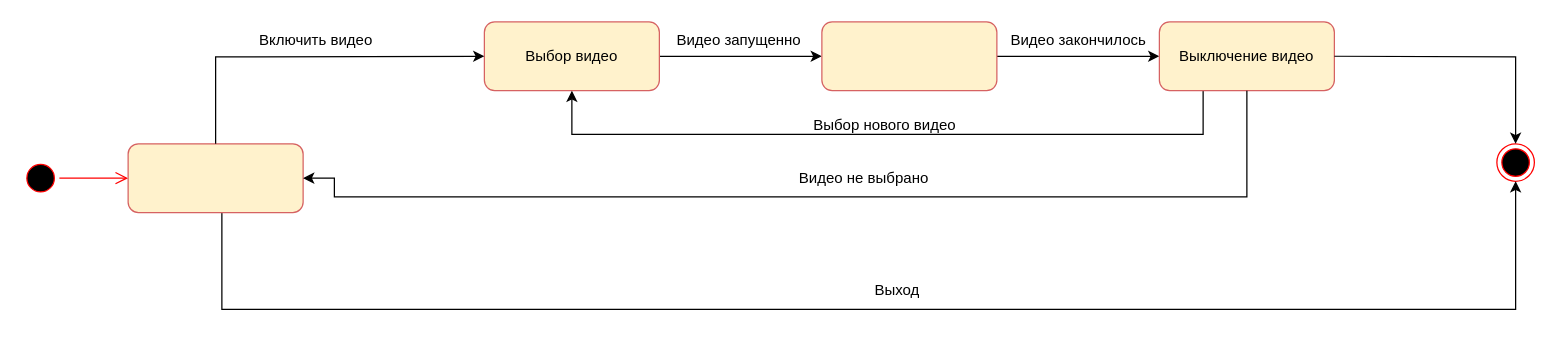
The diagram is 1556 pixels wide and 341 high, and some of its shapes have lost their labels. The centre of each missing label's shape, as x and y in pixels:
Бездействие: [215,177]
Просмотр видео: [909,56]
